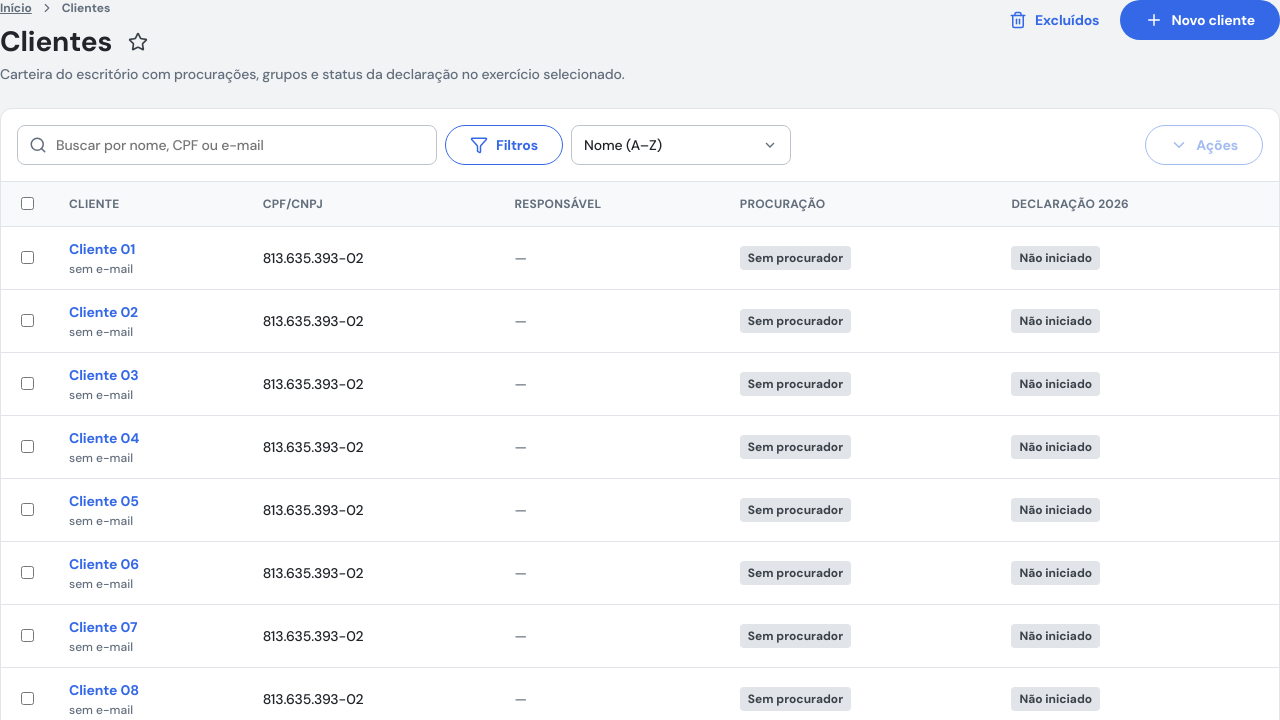
Test: lista de clientes: erro, seleção de todos e endereço › etiquetas e Excel que falham mostram o erro num aviso
Click the checkbox named "Selecionar Cliente 01".
click(28, 257)  # box [21,250,34,264]
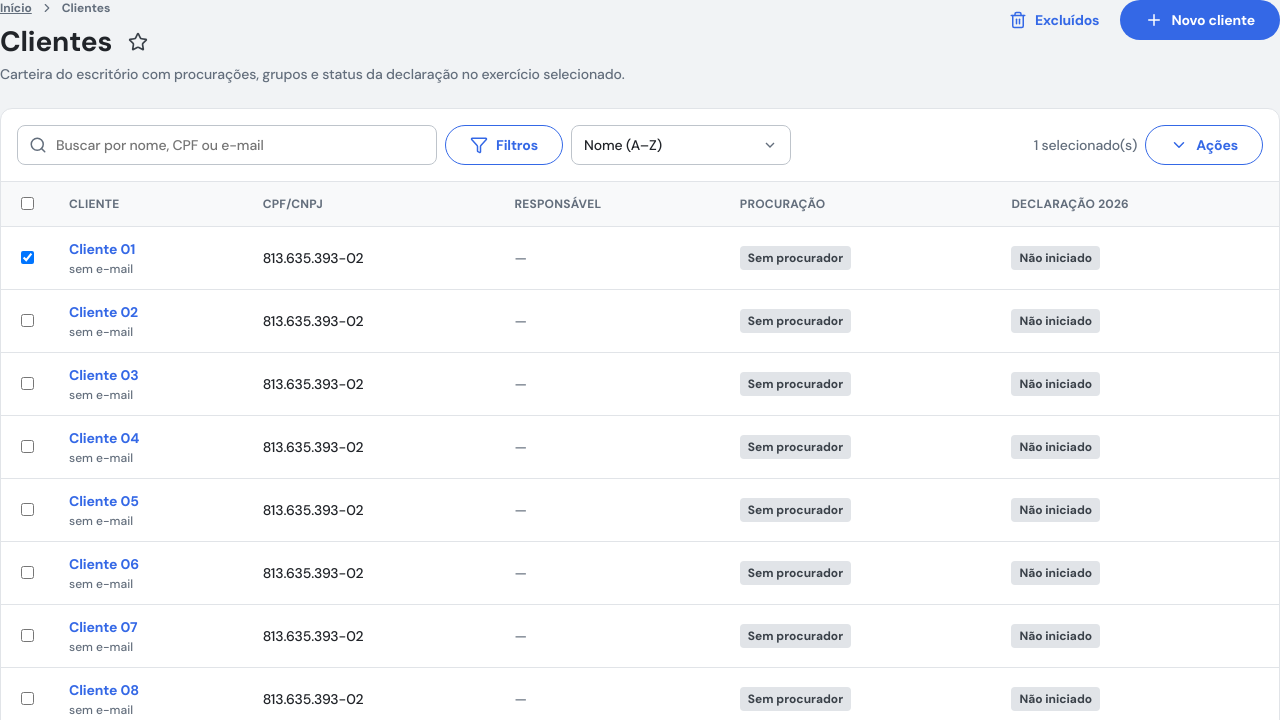
Click the button "Ações".
click(1204, 145)  # box [1145,125,1263,165]
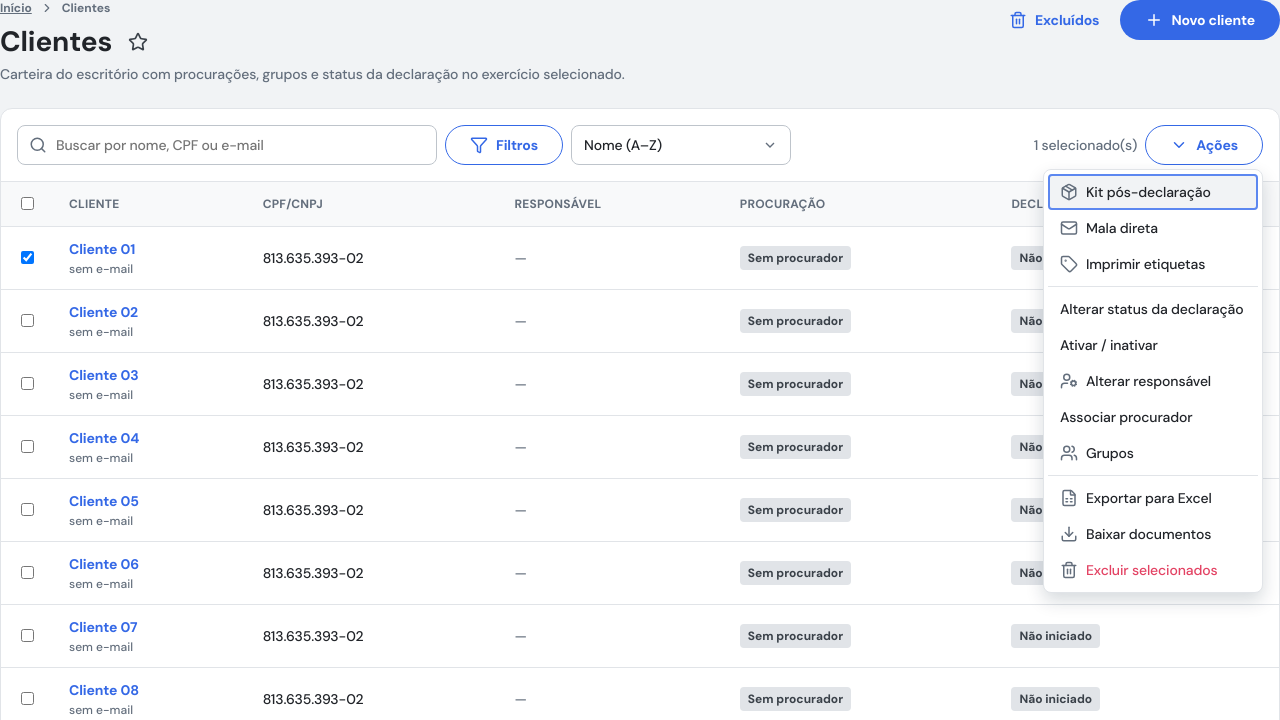
Click the menu item "Imprimir etiquetas".
click(1153, 264)  # box [1048,246,1258,282]
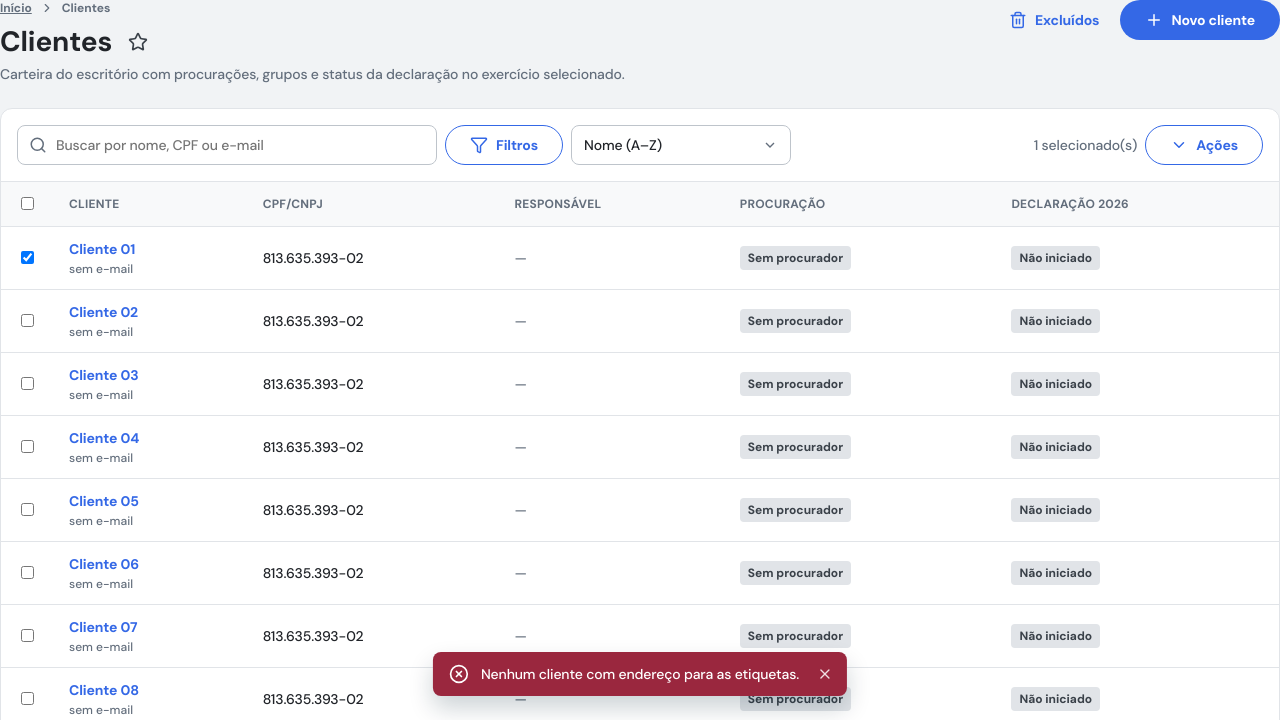
Result: the message reads "Nenhum cliente com endereço para as etiquetas." at [481,665,799,683]
Click the button named "Dispensar aviso".
click(825, 674)  # box [811,660,839,688]
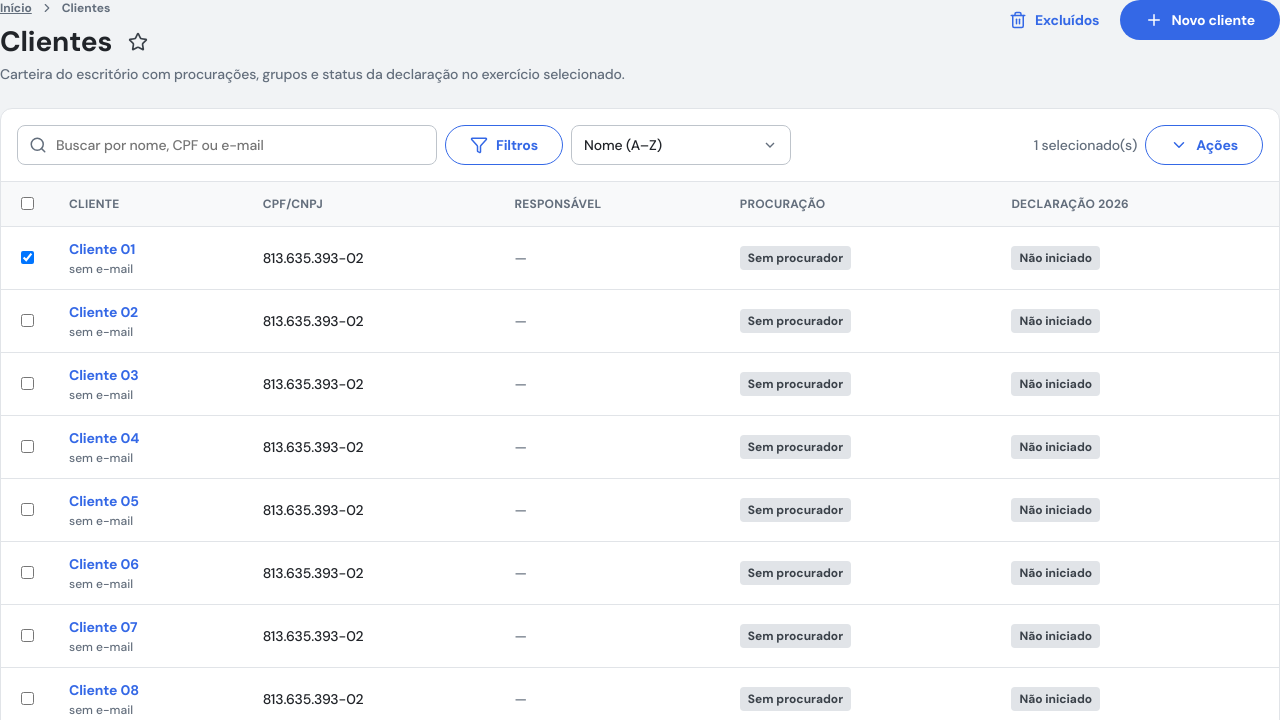
Click the button "Ações".
click(1204, 145)  # box [1145,125,1263,165]
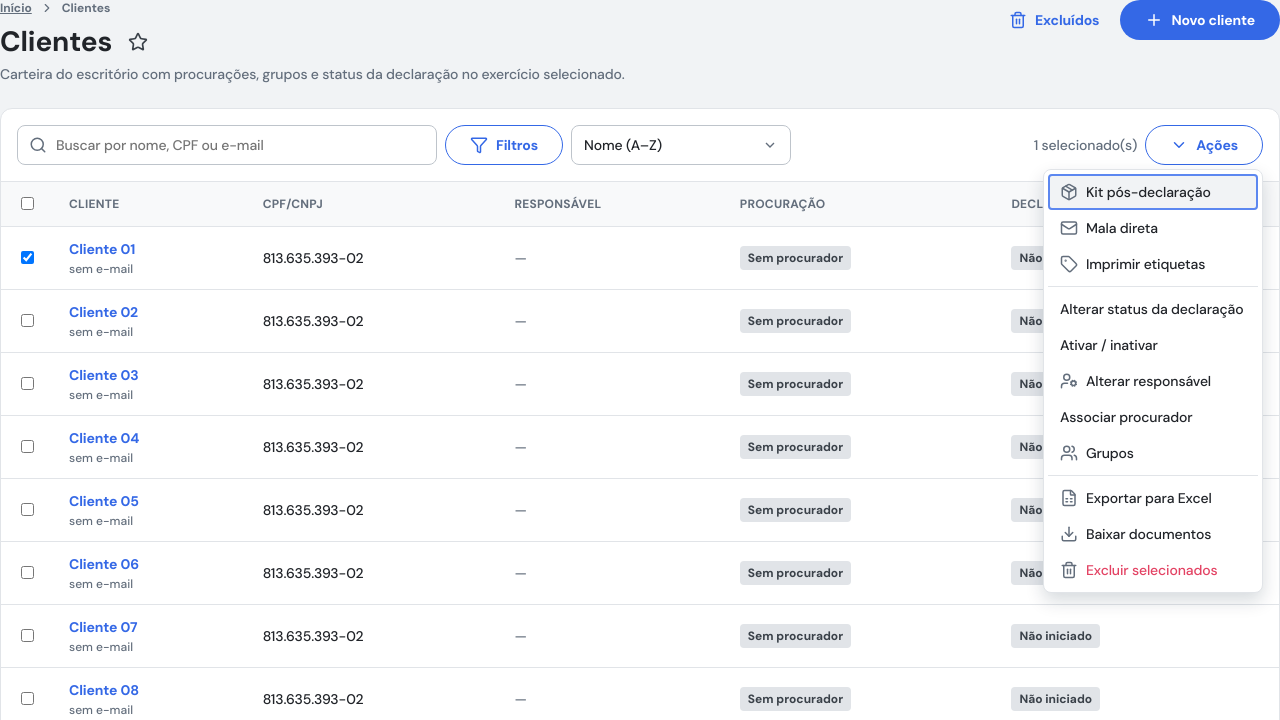
Click the menu item "Exportar para Excel".
click(1153, 498)  # box [1048,480,1258,516]
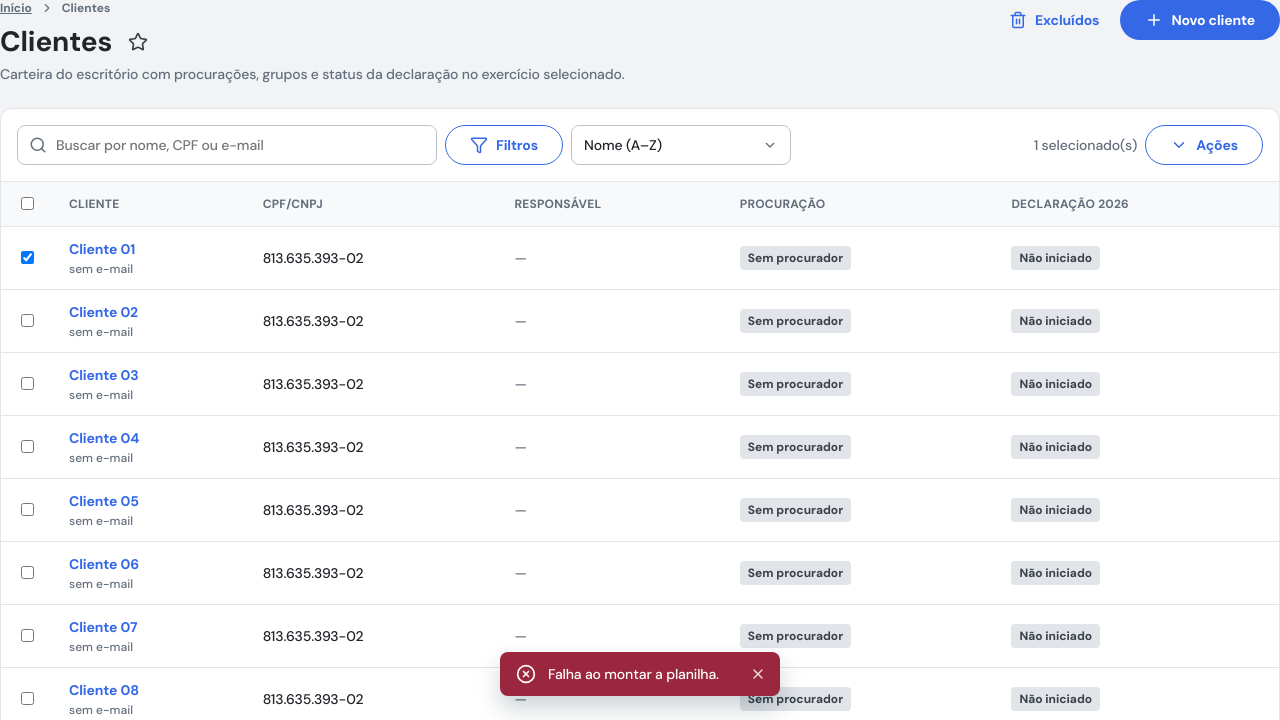
Result: the message reads "Falha ao montar a planilha." at [548,665,719,683]
